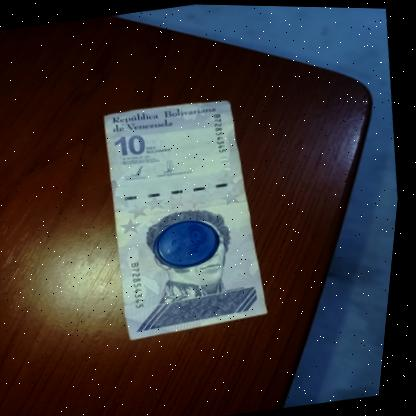ten-front-vef: (90, 80, 295, 335)
